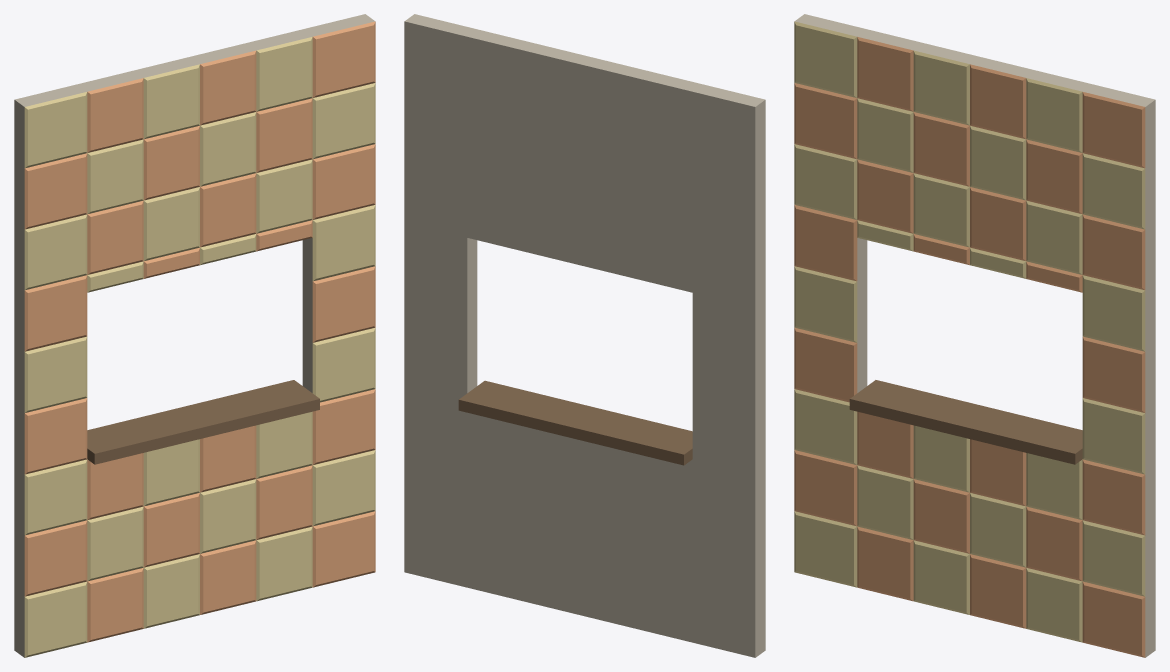
Rendered from Mesh_WallCeramic_P3.fbx.
3 views of the same model, side by side, from view 1: azimuth 30°, elevation 25°; view 2: azimuth 150°, elevation 25°; view 3: azimuth 330°, elevation 25° (orthographic).
Visible parts, largest first — view 1: Mesh_WallCeramic_P3; view 2: Mesh_WallCeramic_P3; view 3: Mesh_WallCeramic_P3.
Boxes of the visible parts, box(x1,y1,x2,y2) form: Mesh_WallCeramic_P3: box(14, 14, 375, 657); Mesh_WallCeramic_P3: box(404, 14, 765, 657); Mesh_WallCeramic_P3: box(794, 14, 1155, 657).
Bounding box in the file's own units: 2 × 3 × 0.2574.
